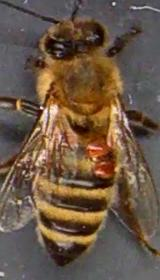varroa_mite: (85, 132, 115, 158), (92, 155, 120, 181)
